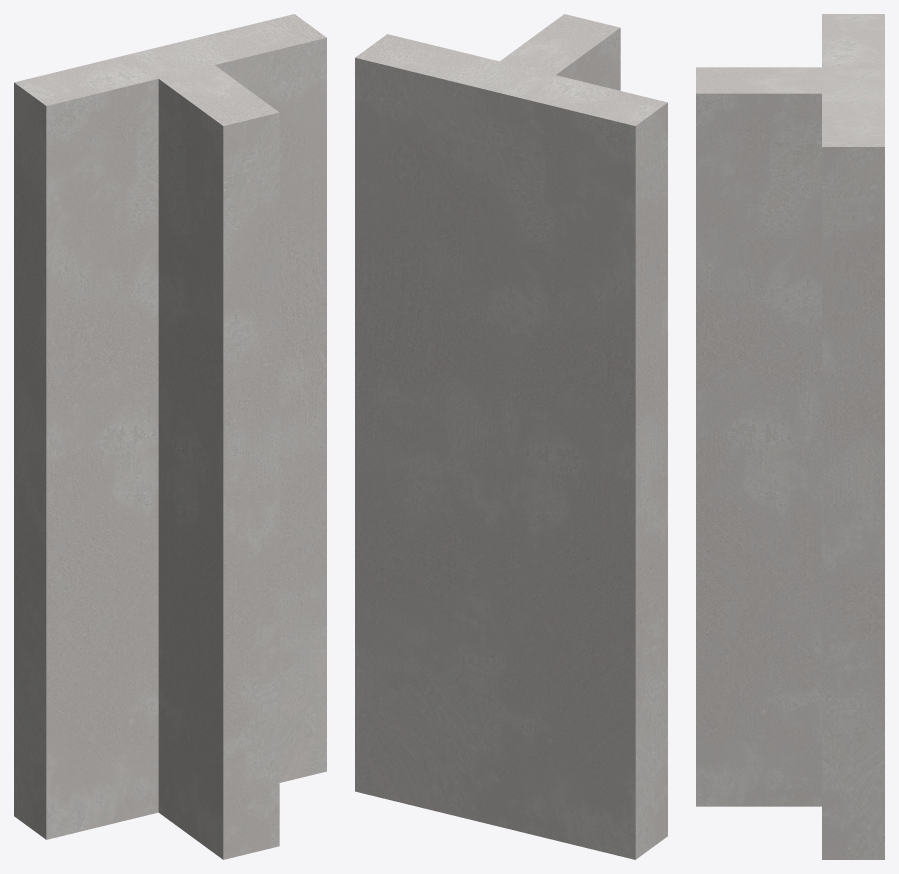
The model's file is corner_wall_div.glb.
3 views of the same model, side by side, from view 1: azimuth 30°, elevation 25°; view 2: azimuth 150°, elevation 25°; view 3: azimuth 270°, elevation 25° (orthographic). The views are drawn at different scales.
Parts seen in each view (by area): view 1: CornerWallDiv; view 2: CornerWallDiv; view 3: CornerWallDiv.
Part boxes in pixels (x1,y1,x2,y2): CornerWallDiv: (14, 14, 326, 859); CornerWallDiv: (355, 14, 667, 859); CornerWallDiv: (696, 14, 884, 859).
Size of the model in its own units: 1 by 2.5 by 0.6.
1 material, 1 textured.
